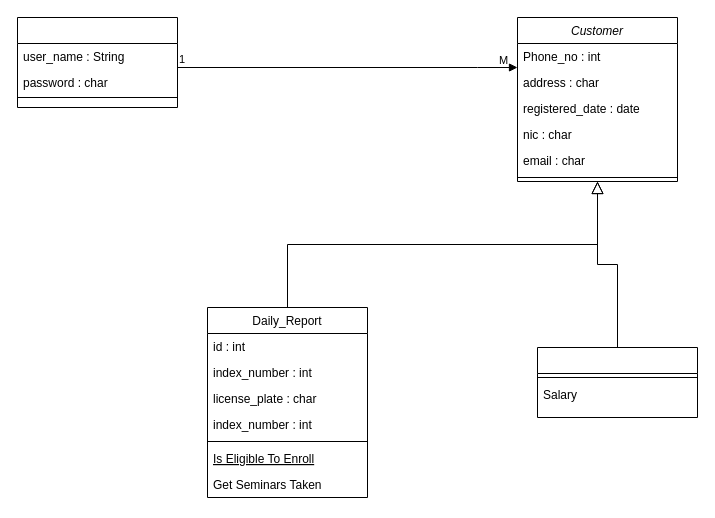
This 715x518 diagram has some shape labels left out. Here are the shapes that lost their labels. From the top down, the box of each, then its label:
(16, 16, 178, 108): Admin
(536, 346, 698, 418): Professor
